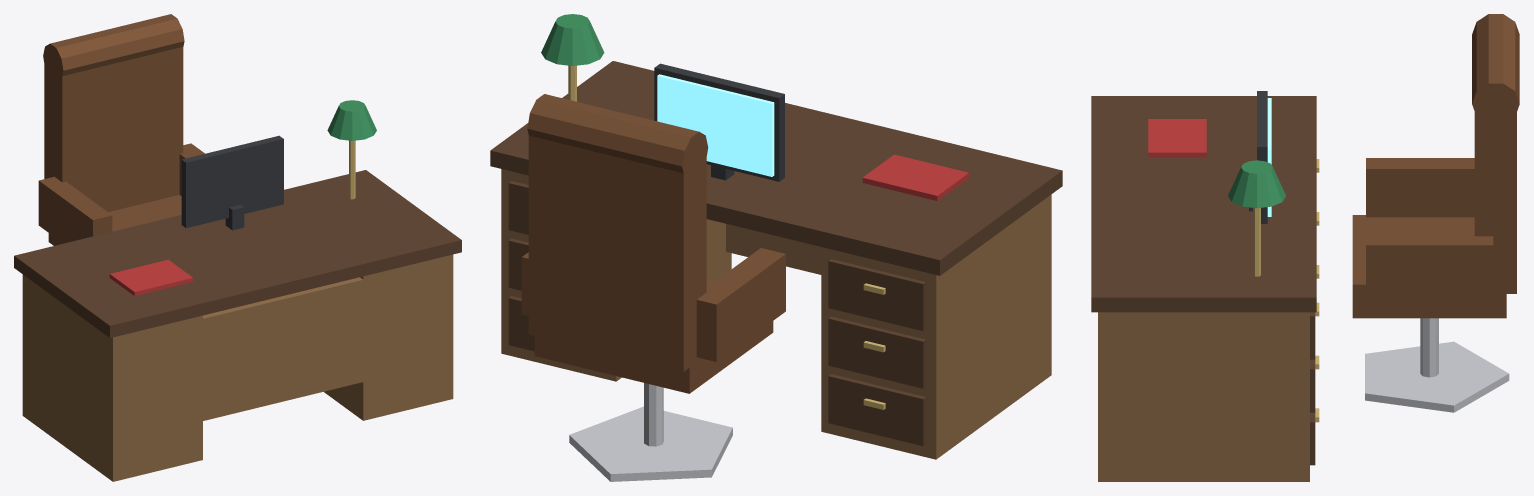
File: manager_desk.glb
3 renders of one model, left to right at view 1: azimuth 30°, elevation 25°; view 2: azimuth 150°, elevation 25°; view 3: azimuth 270°, elevation 25°, orthographic. The views are drawn at different scales.
Parts seen in each view (by area): view 1: manager_desk; view 2: manager_desk; view 3: manager_desk.
Part boxes in pixels (box(x1,y1,x2,y2)): manager_desk: box(14, 14, 461, 481); manager_desk: box(490, 14, 1062, 481); manager_desk: box(1091, 14, 1519, 481).
Size of the model in its own units: 1.8 by 1.4 by 1.62.
